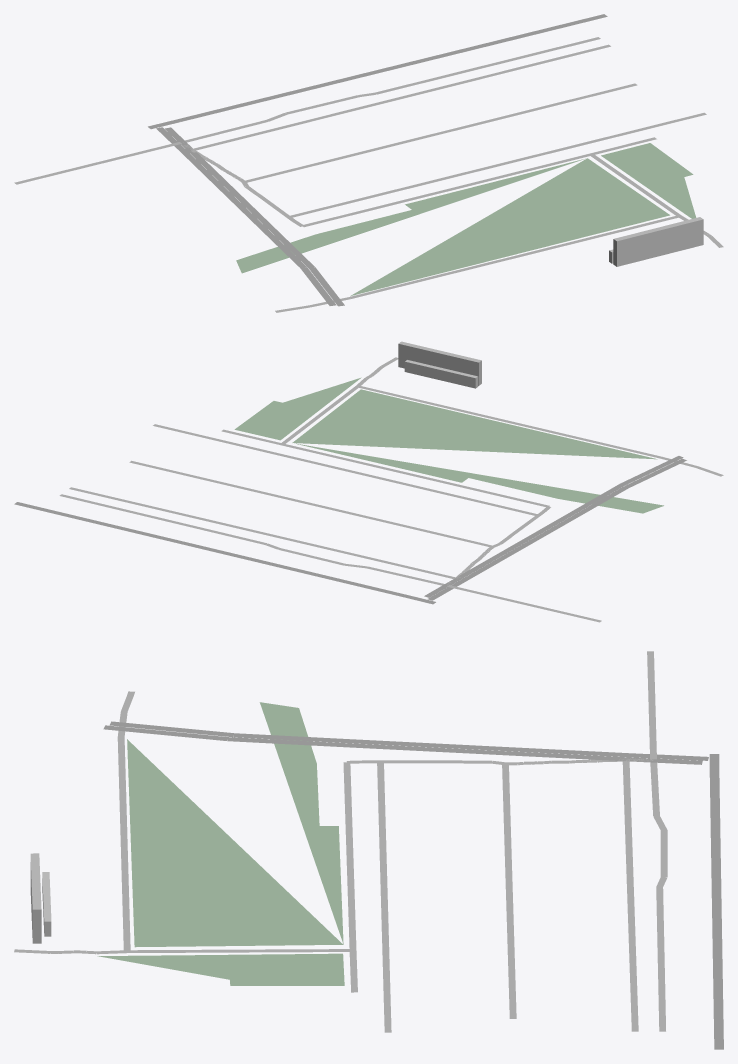
The picture shows the model from 3 angles, top to bottom: view 1: azimuth 30°, elevation 25°; view 2: azimuth 150°, elevation 25°; view 3: azimuth 270°, elevation 25°; orthographic projection. The views are drawn at different scales.
Bounding box in the file's own units: 680 × 28.02 × 514.
